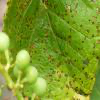grape leaf black rot: (5, 1, 96, 99)
